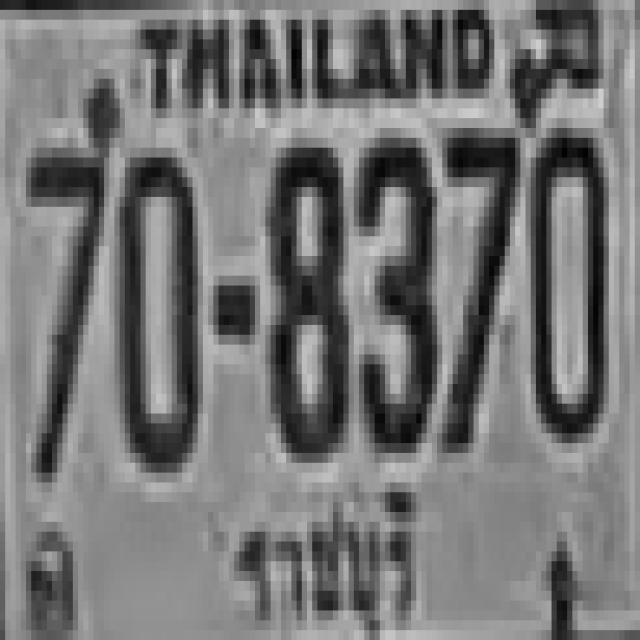0: (526, 118, 604, 433), (117, 148, 195, 462)
3: (354, 128, 432, 443)
7: (23, 138, 107, 472), (442, 118, 515, 443)
8: (266, 138, 344, 453)
RBR: (222, 477, 428, 638)
